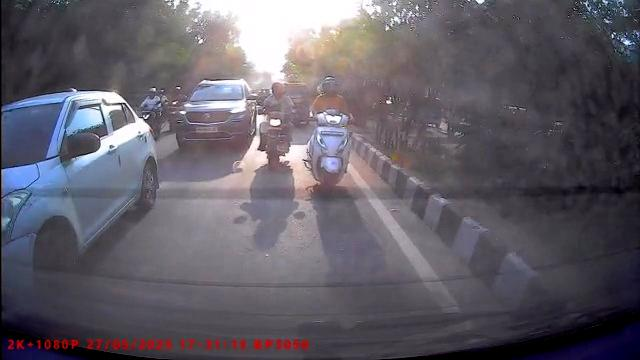motorcycle_with_helmet: (307, 75, 354, 193), (255, 79, 297, 165), (135, 87, 169, 141)
